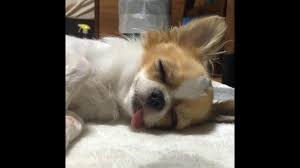chihuahua: (64, 15, 226, 147)
